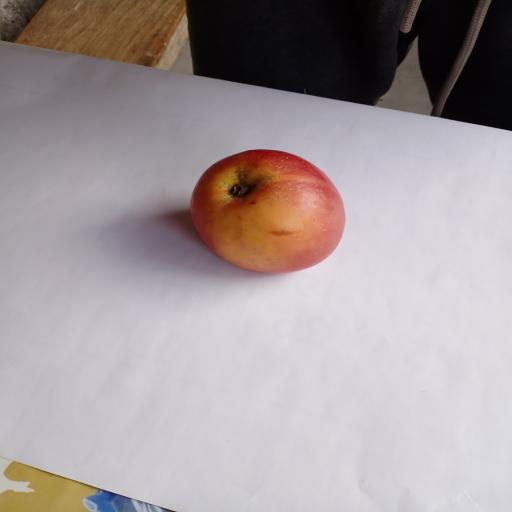apple-ripe: (176, 141, 353, 282)
